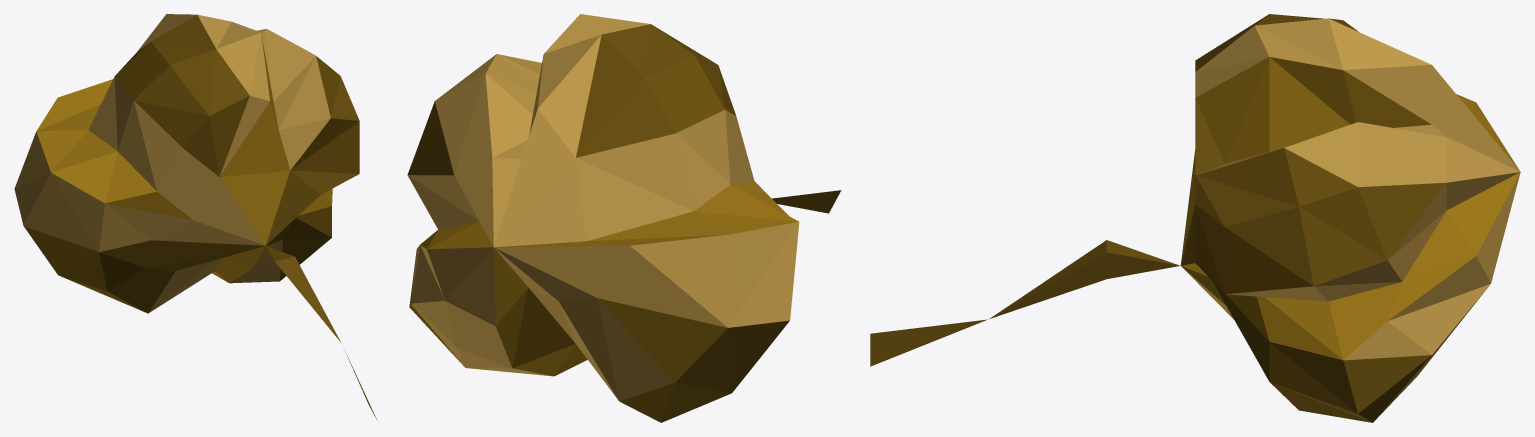
The model's file is royal-seed-pod.gltf.
The picture shows the model from 3 angles, left to right: view 1: azimuth 30°, elevation 25°; view 2: azimuth 150°, elevation 25°; view 3: azimuth 270°, elevation 25°; orthographic projection. The views are drawn at different scales.
Size of the model in its own units: 31 by 26 by 44.
1 material, 1 textured.
